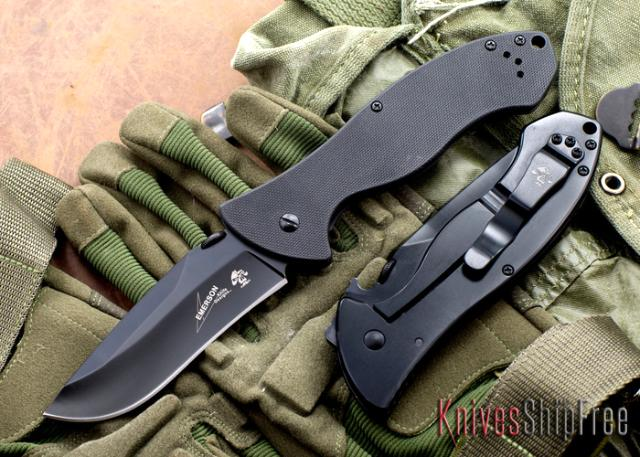pocket-knife: (33, 30, 559, 426)
